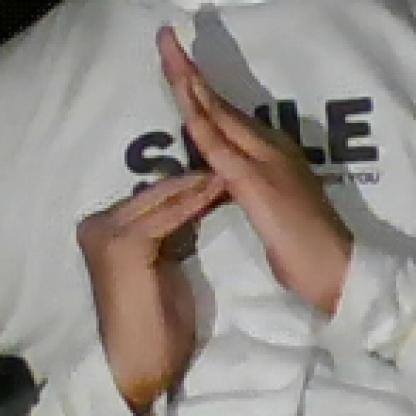Z: (86, 18, 306, 372)
